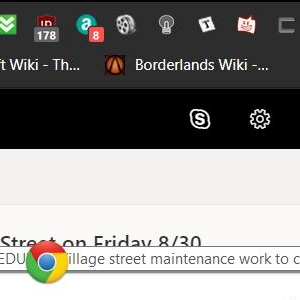chrome: (25, 240, 69, 284)
